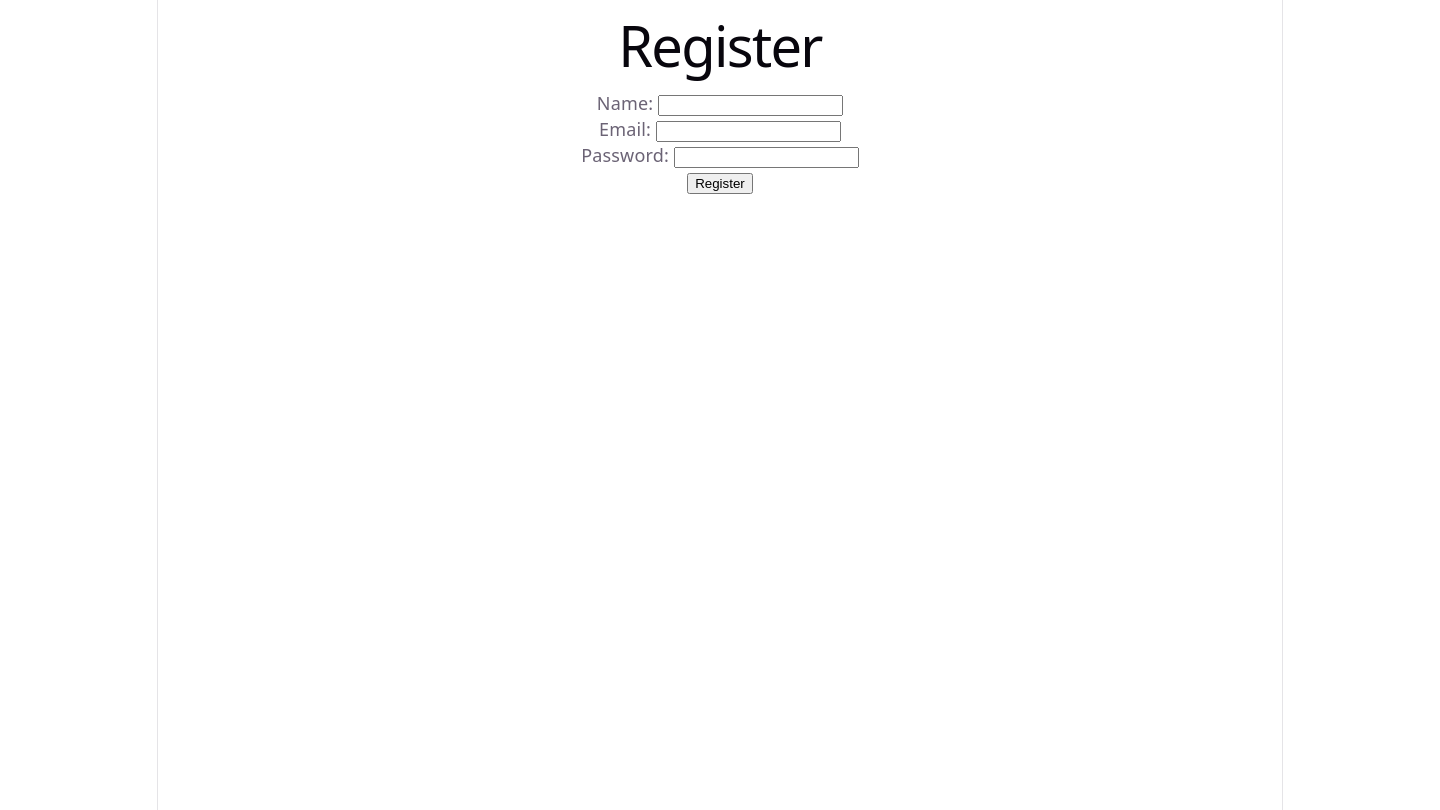
RegisterPage › successful registration that redirects to /events
In the field labelled "Name:": (751, 106) x1=658 y1=95 x2=843 y2=116, type "Guy Mann"
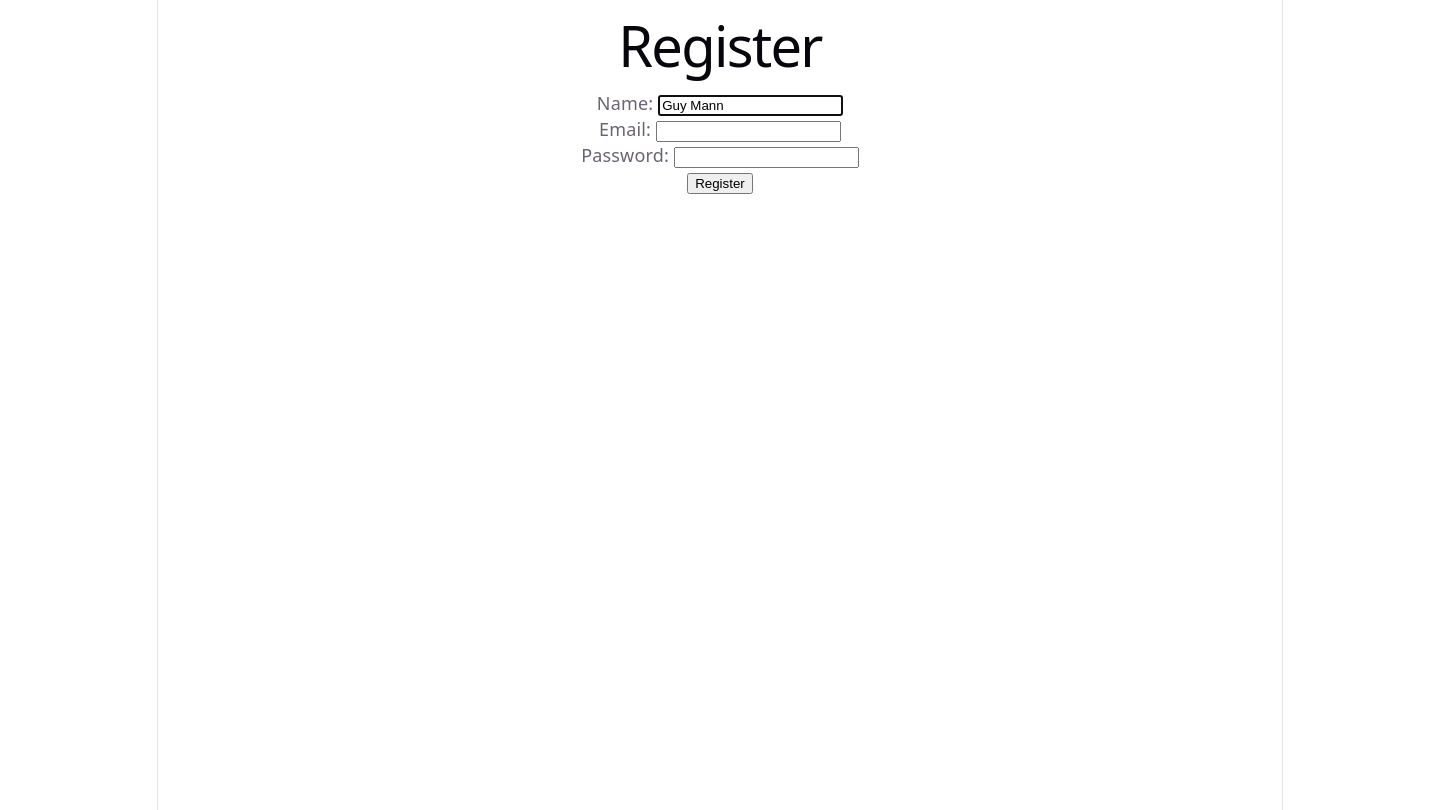
In the field labelled "Email:": (748, 132) x1=656 y1=121 x2=841 y2=142, type "guymann@business.com"
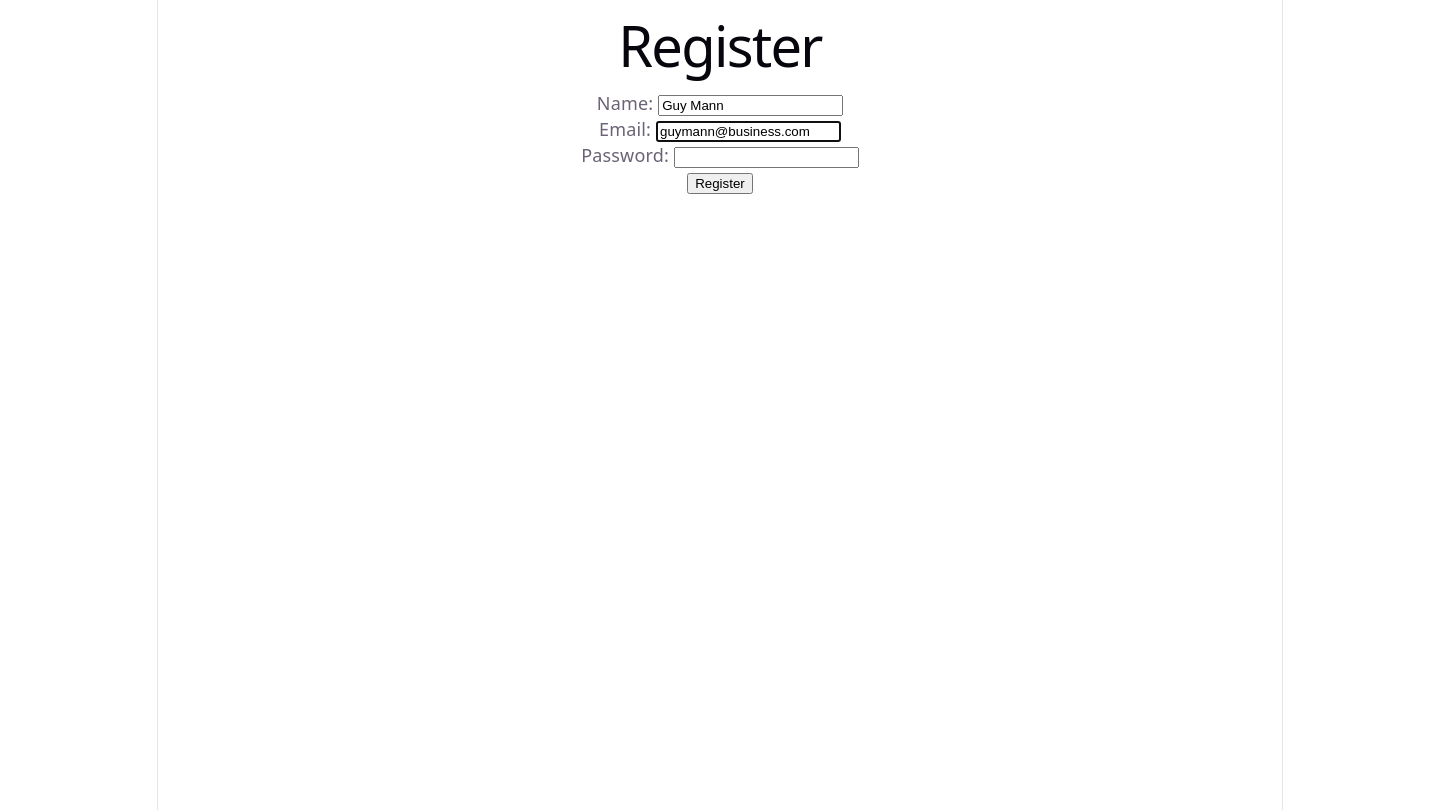
In the password field labelled "Password:": (766, 158) x1=674 y1=147 x2=859 y2=168, type "fakepassword"
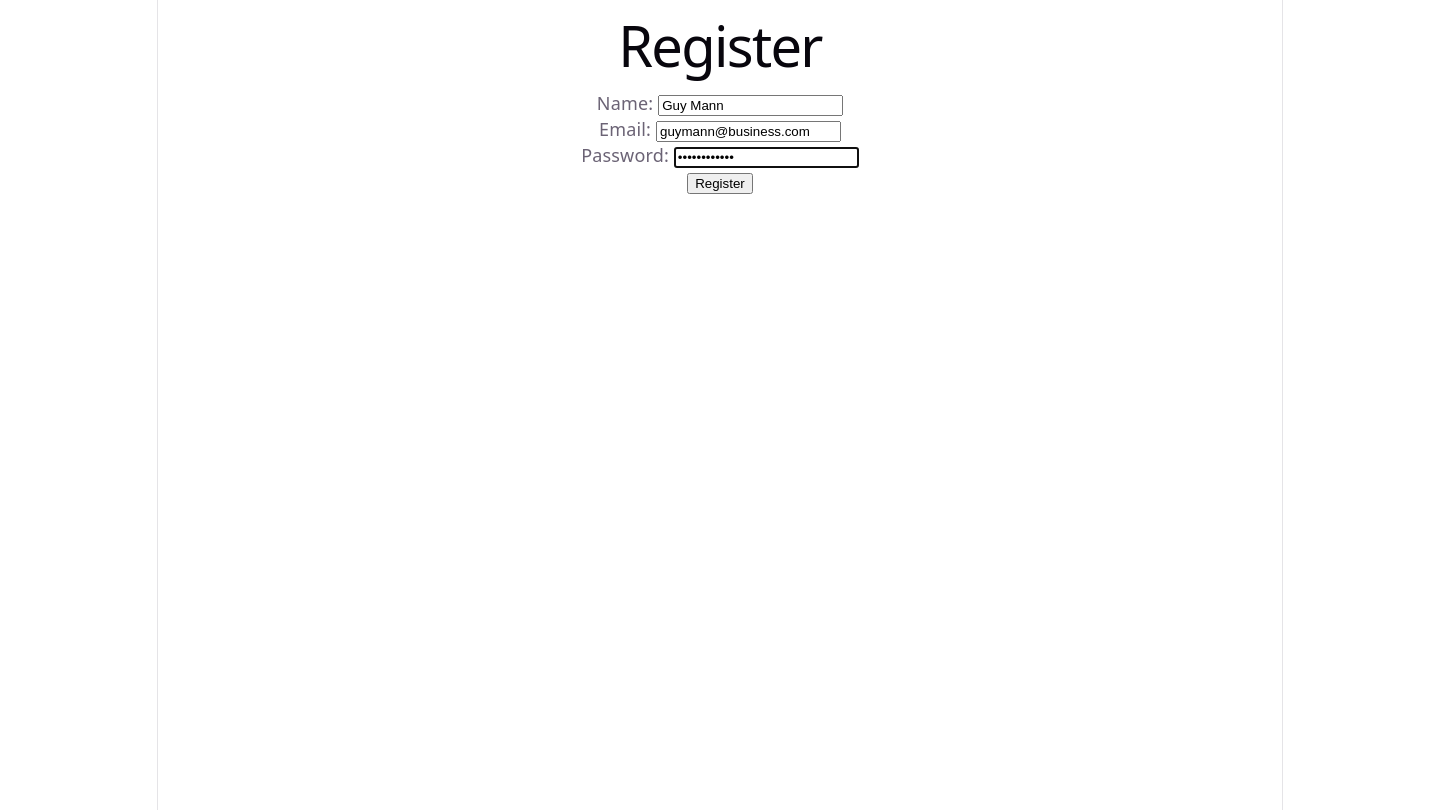
Click the button "Register": click(720, 184) x1=687 y1=173 x2=753 y2=194
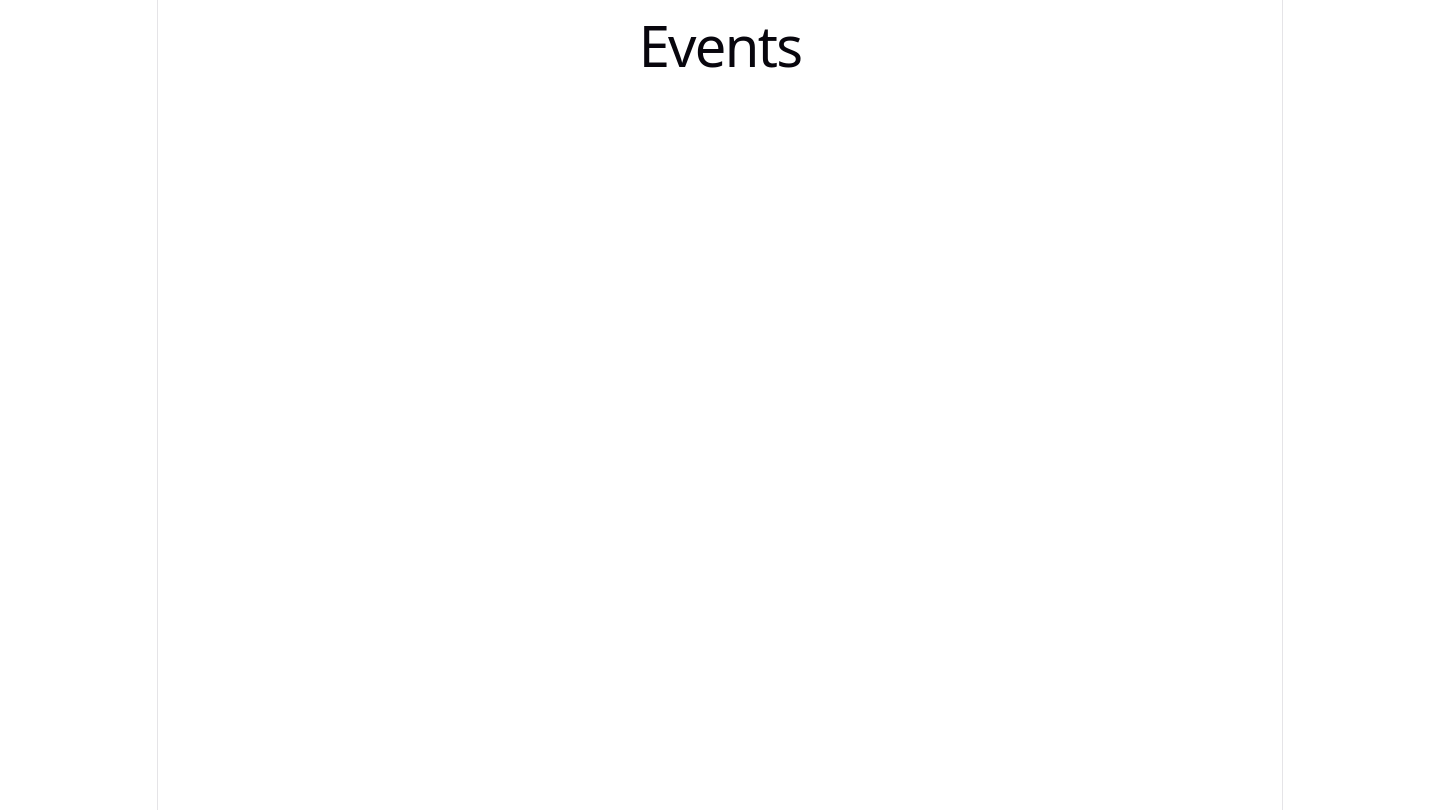
Check: the heading "Events" is shown, box x1=639 y1=7 x2=801 y2=83
